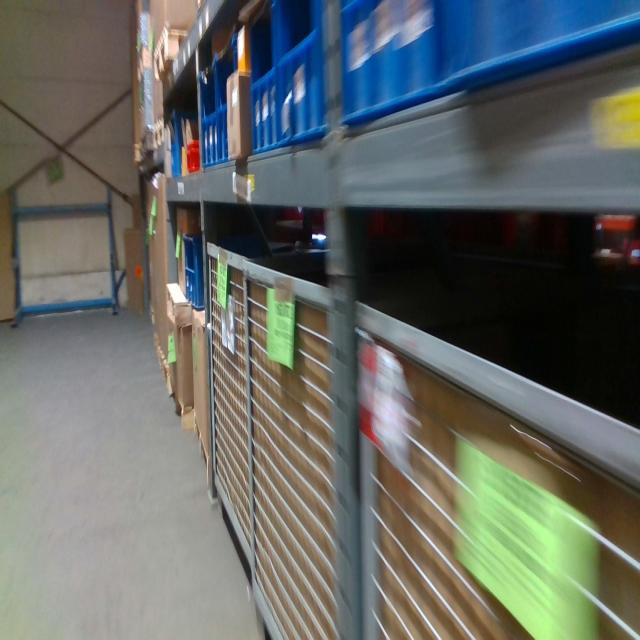pallet: (152, 23, 192, 84), (191, 407, 211, 493), (151, 112, 166, 154)
small_load_carrier: (427, 1, 639, 101), (333, 2, 467, 134), (275, 4, 335, 155), (244, 4, 294, 159), (217, 21, 245, 170), (198, 54, 221, 172), (183, 232, 207, 312), (160, 105, 185, 174)
stillage: (354, 293, 637, 640), (240, 252, 351, 639), (202, 233, 255, 591)
